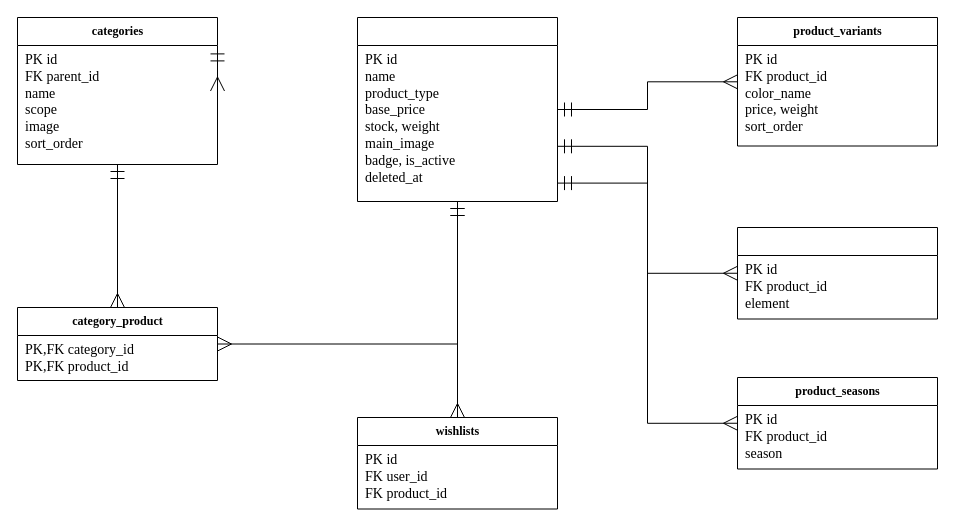
This 955x529 diagram has some shape labels left out. The box of each missing label's shape, as (x1, y1, x2, y2) in pixels:
product_elements: (736, 226, 938, 319)
products: (356, 16, 558, 202)
